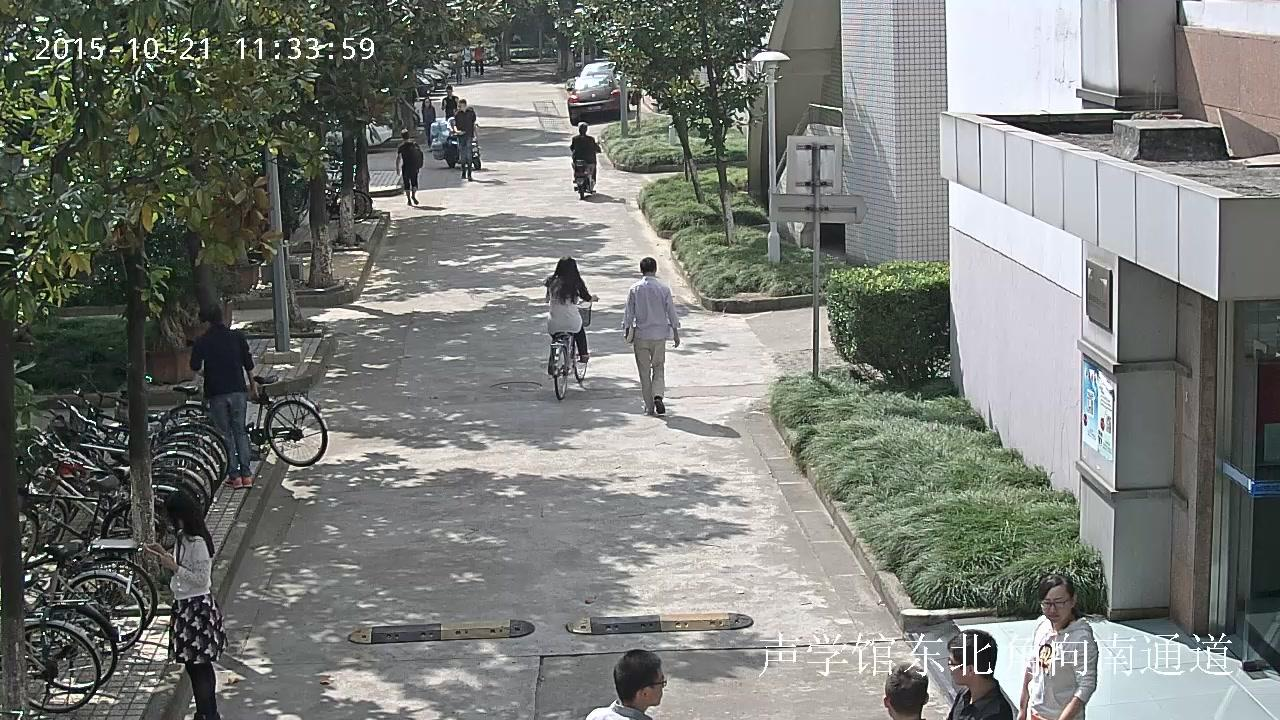face: (1043, 586, 1070, 622), (649, 671, 664, 706), (949, 653, 962, 685), (457, 103, 464, 110), (425, 99, 429, 107), (447, 88, 450, 94), (465, 44, 469, 48), (477, 41, 480, 46)
